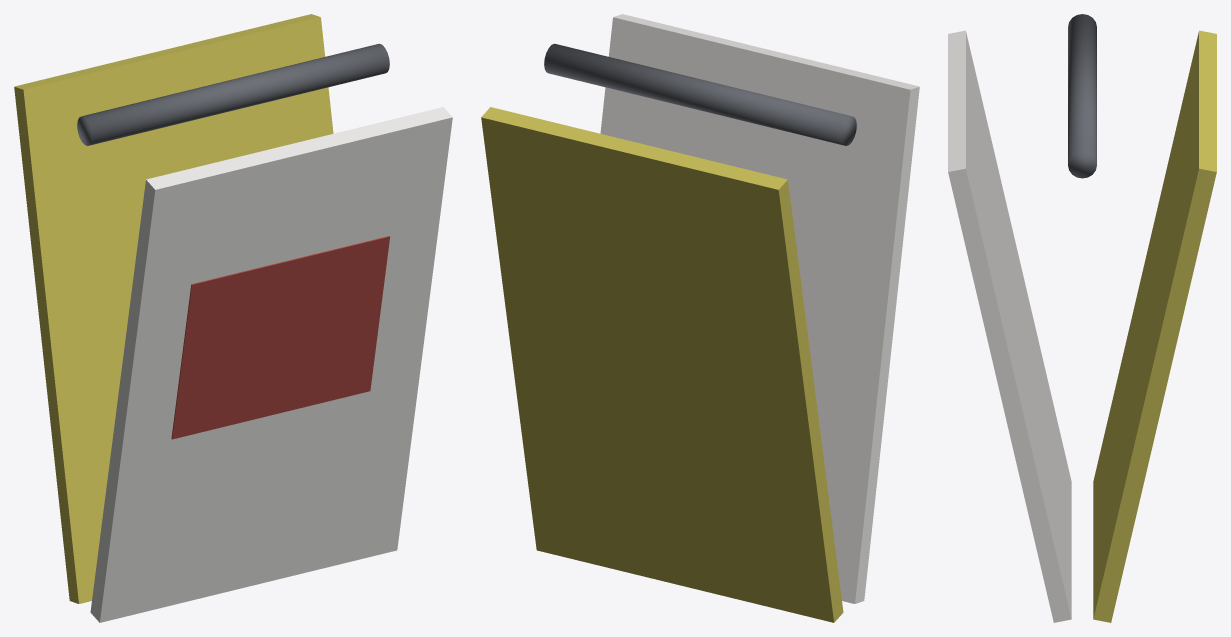
Rendered from prop_stand_kanban.glb.
The picture shows the model from 3 angles, left to right: view 1: azimuth 30°, elevation 25°; view 2: azimuth 150°, elevation 25°; view 3: azimuth 270°, elevation 25°; orthographic projection. The views are drawn at different scales.
Visible parts, largest first — view 1: stand_kanban; view 2: stand_kanban; view 3: stand_kanban.
Boxes of the visible parts, <box> form: stand_kanban: <box>14,14,452,622</box>; stand_kanban: <box>481,14,919,622</box>; stand_kanban: <box>948,14,1216,622</box>.
Size of the model in its own units: 0.9 by 1.43 by 0.74.
